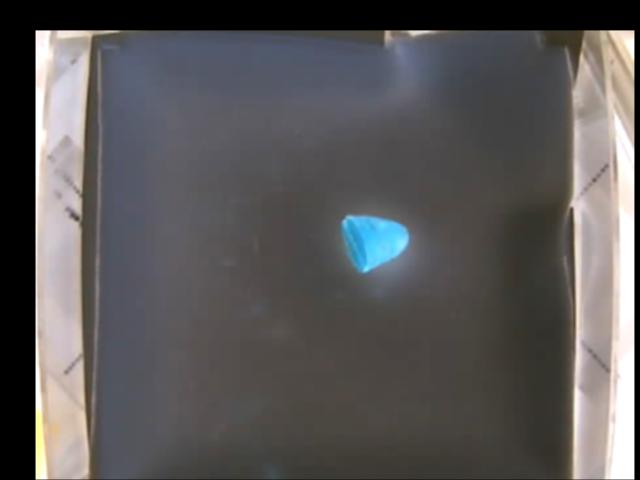Carrot: (342, 215, 410, 271)
